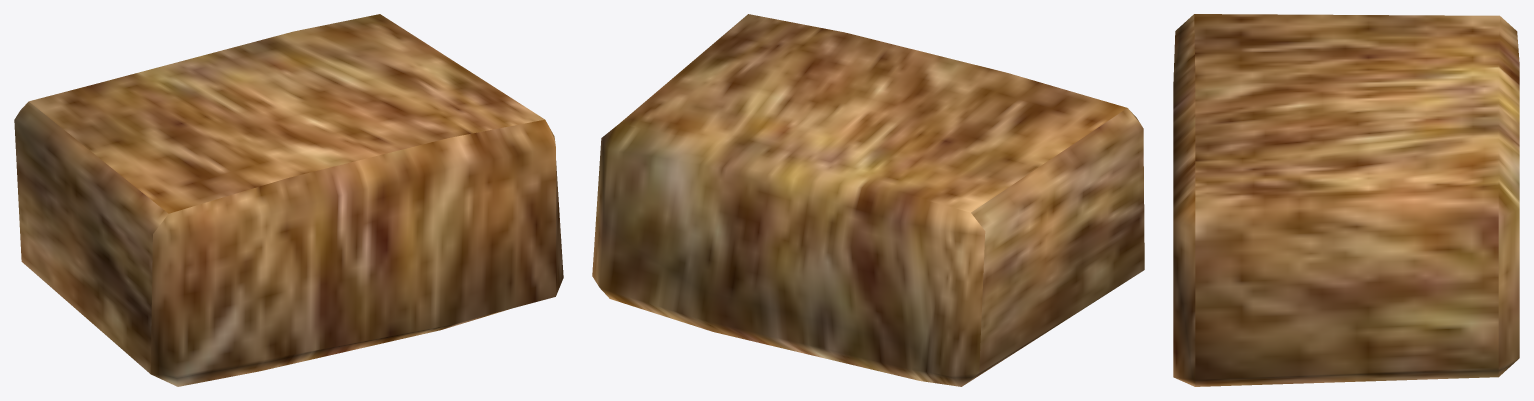
The model's file is PiattaformaLegno01.FBX.
The picture shows the model from 3 angles, left to right: view 1: azimuth 30°, elevation 25°; view 2: azimuth 150°, elevation 25°; view 3: azimuth 270°, elevation 25°; orthographic projection. The views are drawn at different scales.
Parts seen in each view (by area): view 1: PiattaformaLegno001; view 2: PiattaformaLegno001; view 3: PiattaformaLegno001.
Boxes of the visible parts, x1,y1,x2,y2 form: PiattaformaLegno001: [14, 14, 563, 386]; PiattaformaLegno001: [592, 14, 1144, 386]; PiattaformaLegno001: [1173, 14, 1519, 386].
Size of the model in its own units: 89.92 by 39.8 by 63.24.
Materials: 1 (1 with a texture image).
